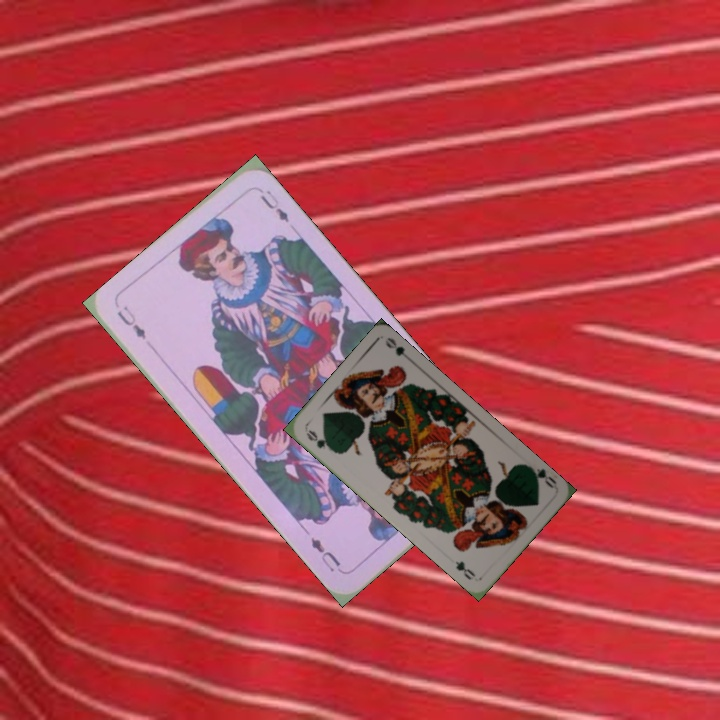EU: (113, 302, 149, 342)
GO: (523, 462, 560, 491), (302, 426, 337, 454)
